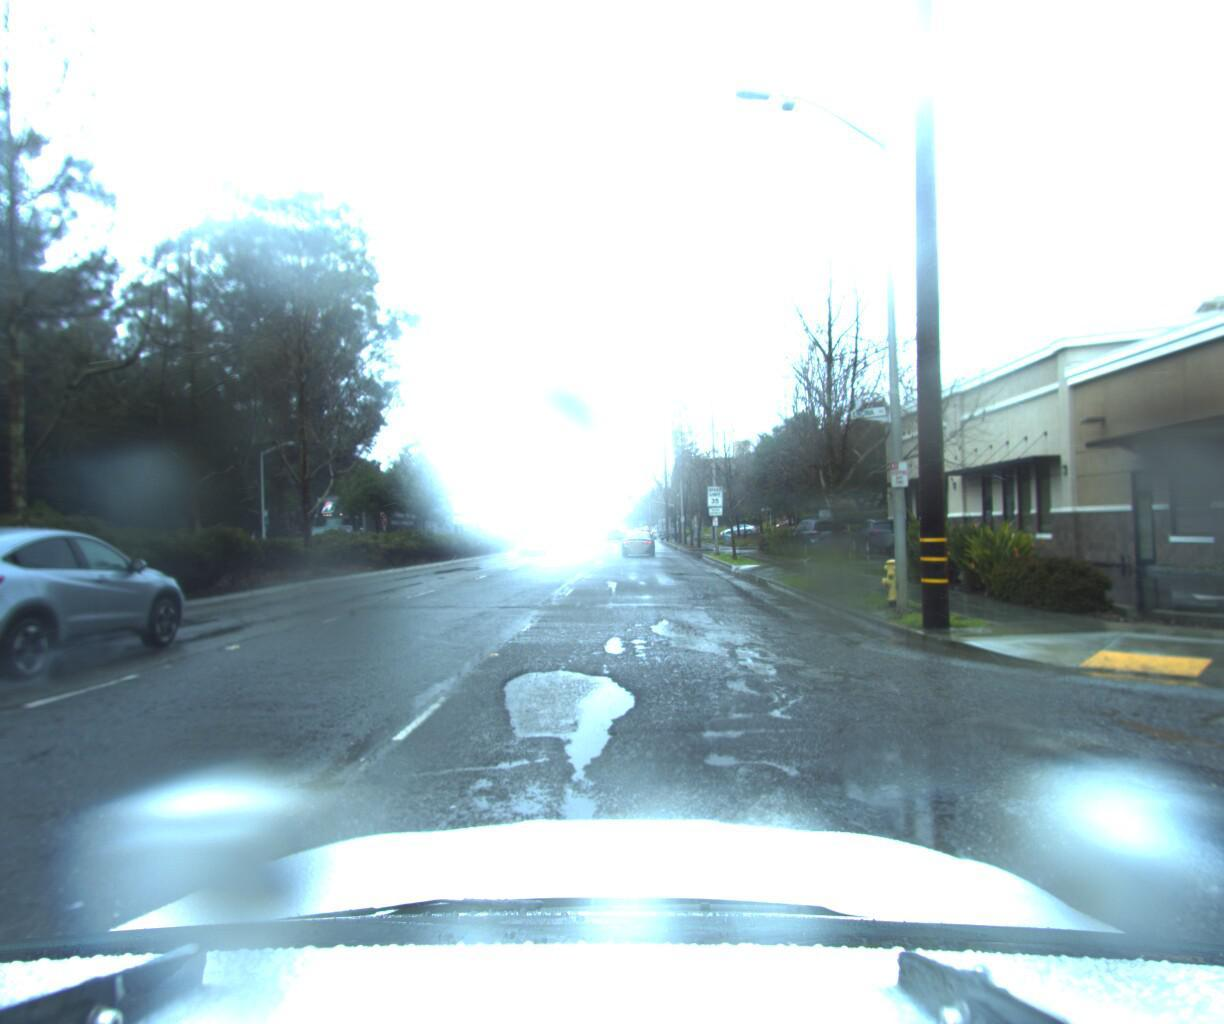car: (785, 513, 851, 554), (848, 514, 912, 551), (515, 518, 554, 548), (618, 527, 654, 556)
truck: (281, 489, 432, 567)
